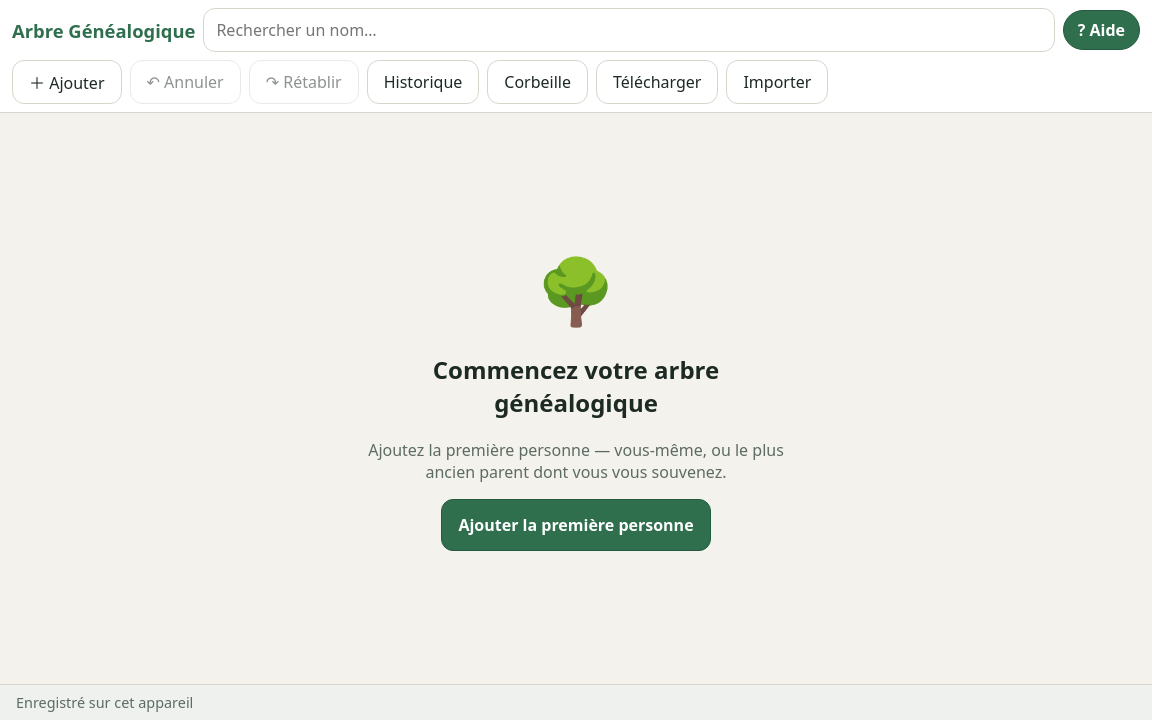
Scenario: App smoke flow › edits a name and it appears in the card title
Click the button "Ajouter la première personne" at {"x": 576, "y": 525}, box x1=441 y1=499 x2=711 y2=551
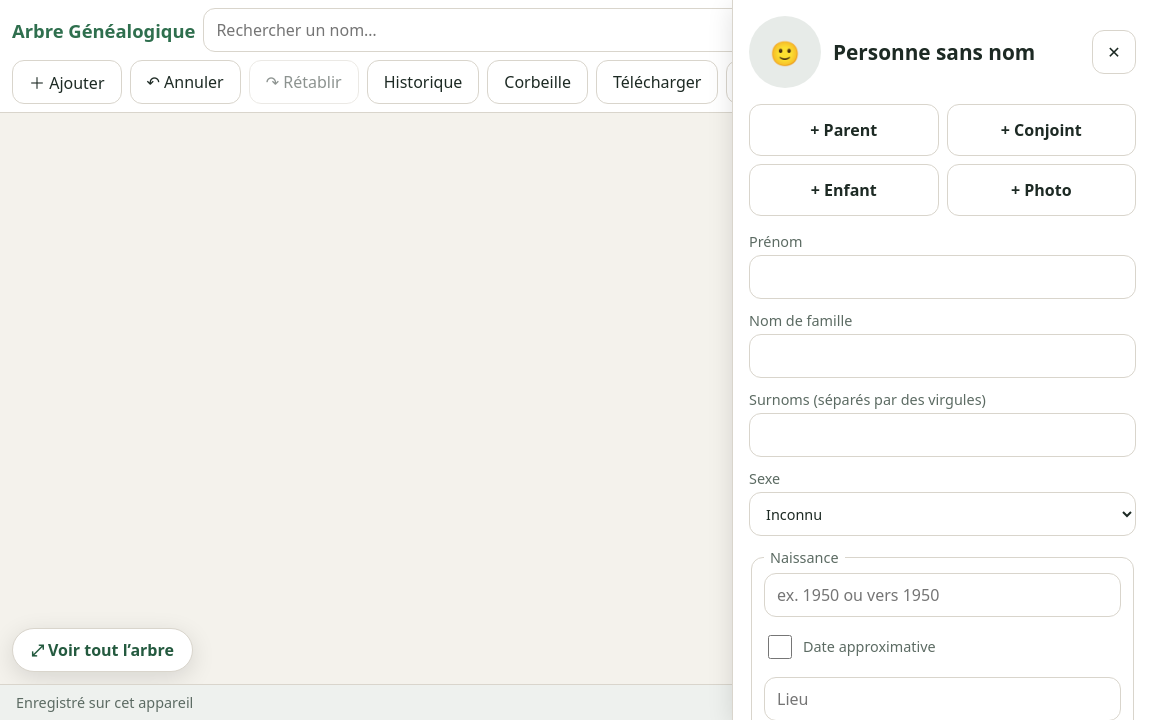
Type "Amina" into the field labelled "Prénom" at {"x": 942, "y": 277}, box x1=749 y1=255 x2=1136 y2=299
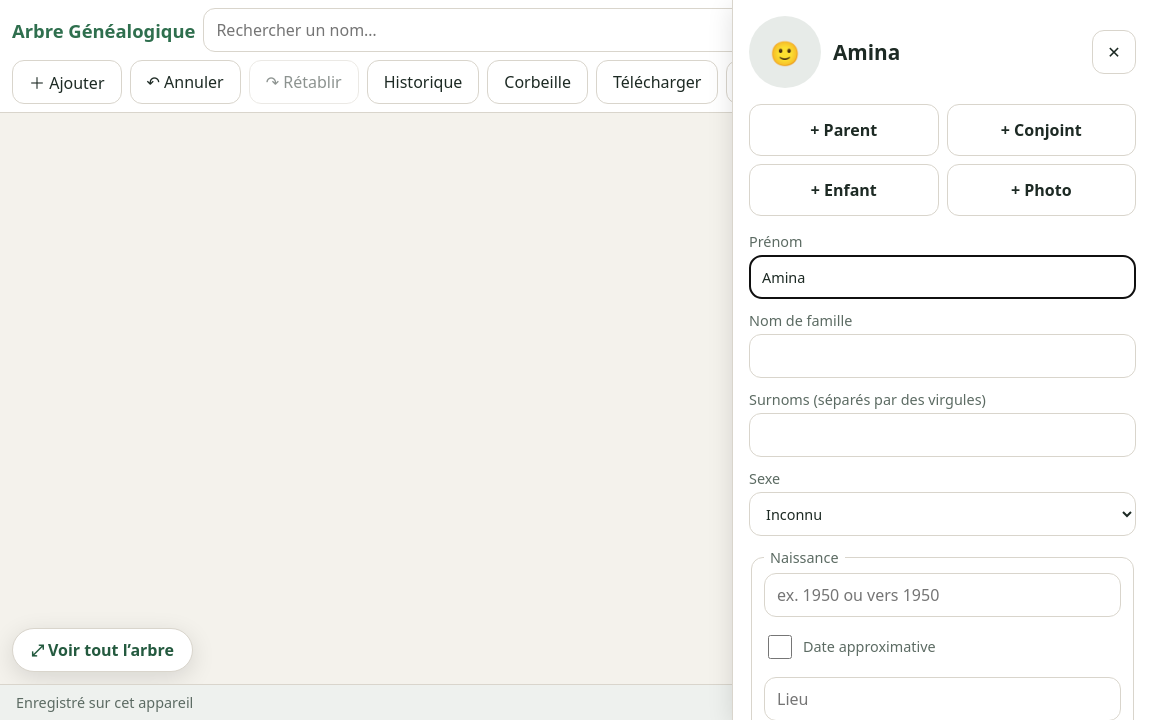
Expected: the heading "Amina" is shown, x1=833 y1=38 x2=900 y2=66
